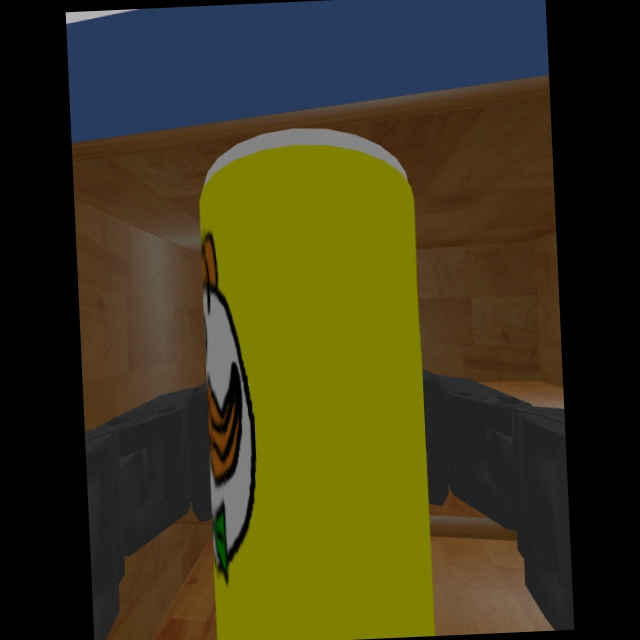chipsdose_gelb: (199, 128, 436, 640)
